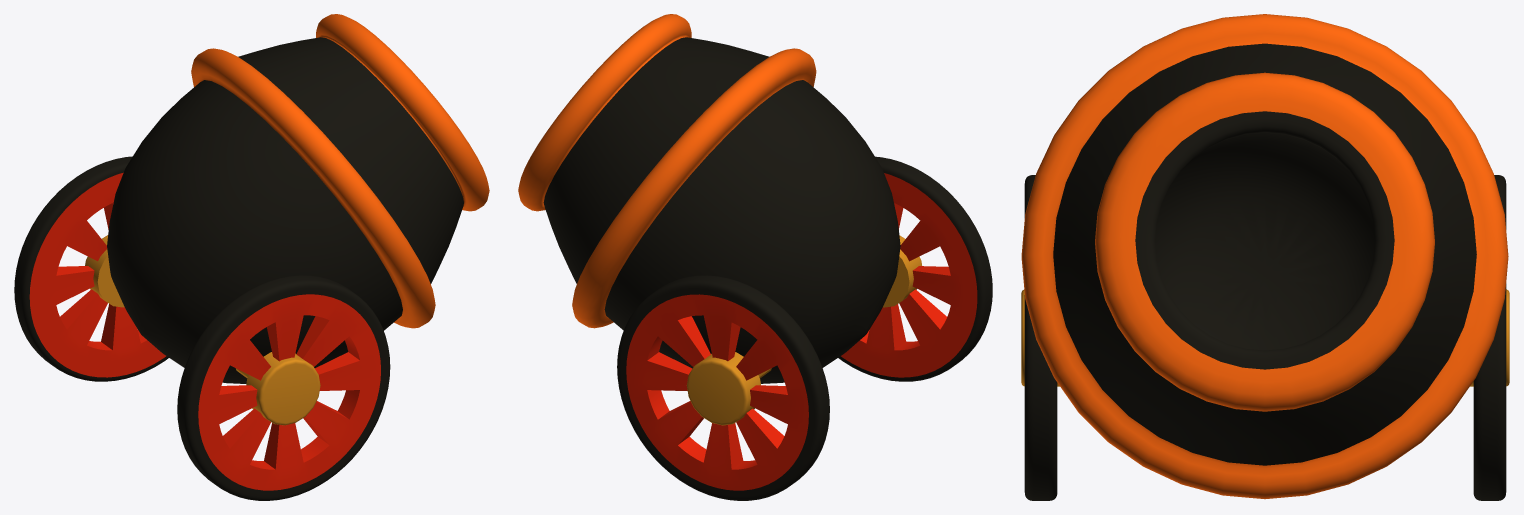
3 views of the same model, side by side, from view 1: azimuth 30°, elevation 25°; view 2: azimuth 150°, elevation 25°; view 3: azimuth 270°, elevation 25° (orthographic). The views are drawn at different scales.
Visible parts, largest first — view 1: Cylinder011, Tube009, Group015, Tube010, Group013, Group014, Cylinder012, Cylinder013; view 2: Cylinder011, Tube010, Group015, Tube009, Group014, Group013, Cylinder013, Cylinder012; view 3: Cylinder011, Group015, Group014, Group013.
Part boxes in pixels (x1,y1,x2,y2): Cylinder011: (107,37,463,383); Tube009: (198,294,380,490); Group015: (191,14,489,328); Tube010: (29,172,165,377); Group013: (177,275,390,500); Group014: (14,156,168,381); Cylinder012: (236,352,320,425); Cylinder013: (85,235,124,307); Cylinder011: (543,37,900,383); Tube010: (626,294,808,490); Group015: (518,14,816,328); Tube009: (841,173,977,377); Group014: (617,275,829,500); Group013: (838,156,992,381); Cylinder013: (686,352,771,425); Cylinder012: (883,235,921,307); Cylinder011: (1053,43,1476,465); Group015: (1021,14,1508,499); Group014: (1473,175,1506,500); Group013: (1024,175,1057,500).
Bounding box in the file's own units: 35.34 × 34.76 × 29.92.
